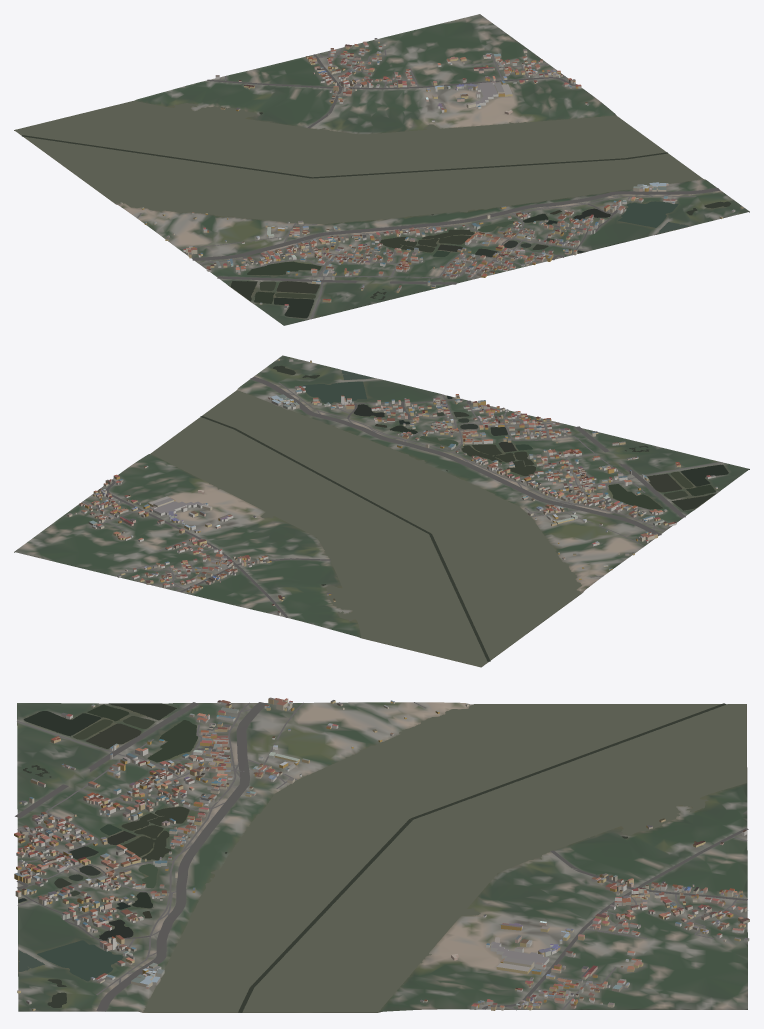
3 renders of one model, top to bottom at view 1: azimuth 30°, elevation 25°; view 2: azimuth 150°, elevation 25°; view 3: azimuth 270°, elevation 25°, orthographic. The views are drawn at different scales.
Visible parts, largest first — view 1: water, ground, buildings, roads; view 2: water, ground, buildings, roads; view 3: water, ground, buildings, roads.
Boxes of the visible parts, left/top/right/bottom form: water: left=15, top=101, right=730, bottom=318; ground: left=14, top=14, right=749, bottom=325; buildings: left=120, top=38, right=743, bottom=309; roads: left=137, top=47, right=719, bottom=319; water: left=151, top=365, right=728, bottom=666; ground: left=14, top=355, right=749, bottom=667; buildings: left=67, top=358, right=717, bottom=615; roads: left=82, top=376, right=722, bottom=617; water: left=18, top=703, right=746, bottom=1012; ground: left=17, top=702, right=747, bottom=1012; buildings: left=14, top=697, right=749, bottom=1010; roads: left=15, top=702, right=748, bottom=1011.
Bounding box in the file's own units: 1411 × 30.22 × 1414.
